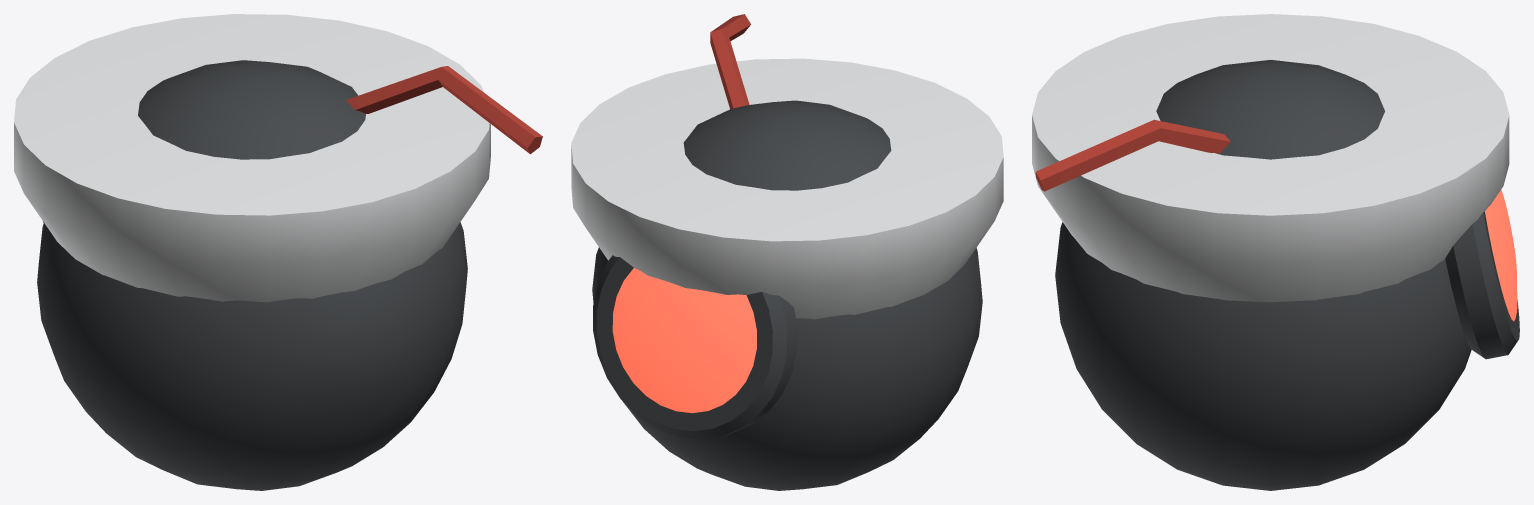
The model's file is drone_eye.glb.
3 views of the same model, side by side, from view 1: azimuth 30°, elevation 25°; view 2: azimuth 150°, elevation 25°; view 3: azimuth 270°, elevation 25° (orthographic). The views are drawn at different scales.
Visible parts, largest first — view 1: body; view 2: body; view 3: body.
Part boxes in pixels (x1,y1,x2,y2): body: [14, 14, 542, 490]; body: [571, 14, 1003, 490]; body: [1032, 14, 1519, 490].
Size of the model in its own units: 0.124 by 0.1188 by 0.1267.
